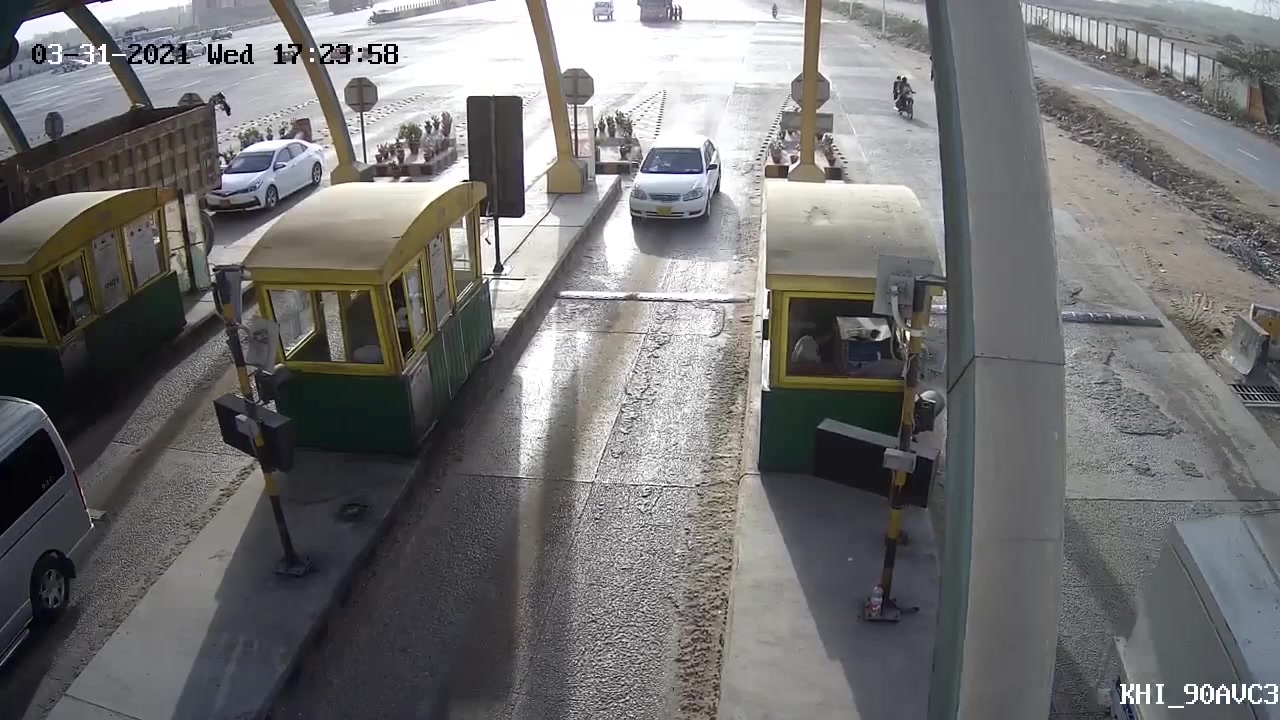F1: (617, 127, 748, 230)
